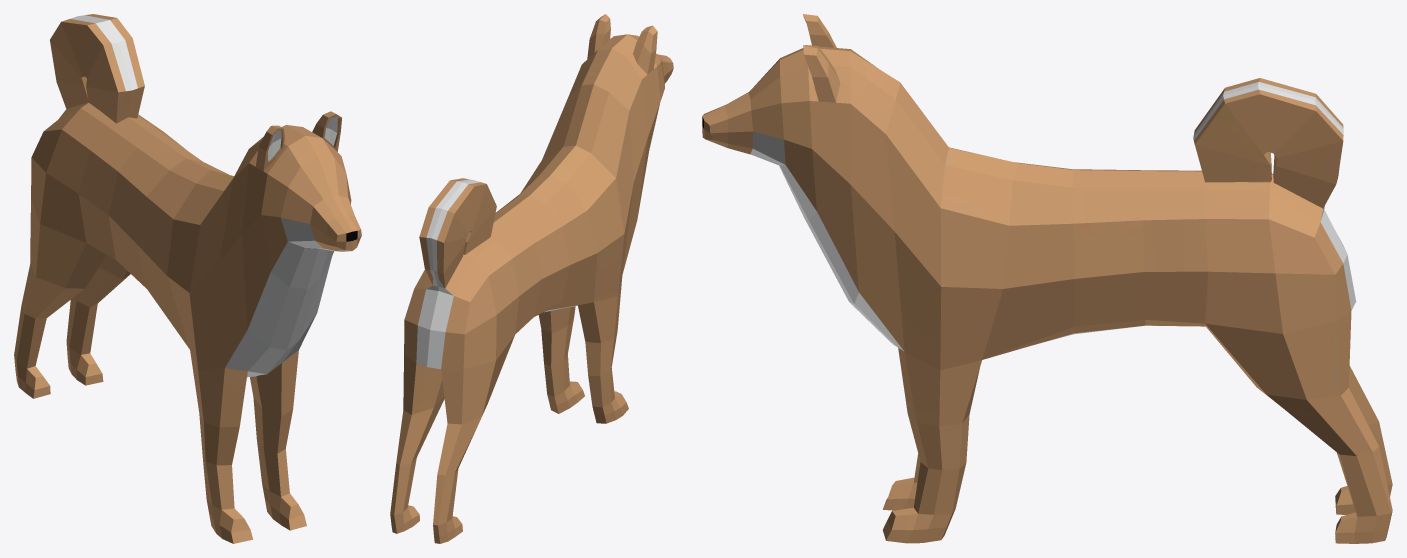
Rendered from dog.glb.
3 views of the same model, side by side, from view 1: azimuth 30°, elevation 25°; view 2: azimuth 150°, elevation 25°; view 3: azimuth 270°, elevation 25° (orthographic). The views are drawn at different scales.
Parts seen in each view (by area): view 1: 19dogFinal; view 2: 19dogFinal; view 3: 19dogFinal.
Boxes of the visible parts, <box> form: 19dogFinal: <box>14,14,361,543</box>; 19dogFinal: <box>390,14,673,543</box>; 19dogFinal: <box>702,14,1392,543</box>.
Size of the model in its own units: 0.2577 by 0.9795 by 1.24.
1 material, 1 textured.
